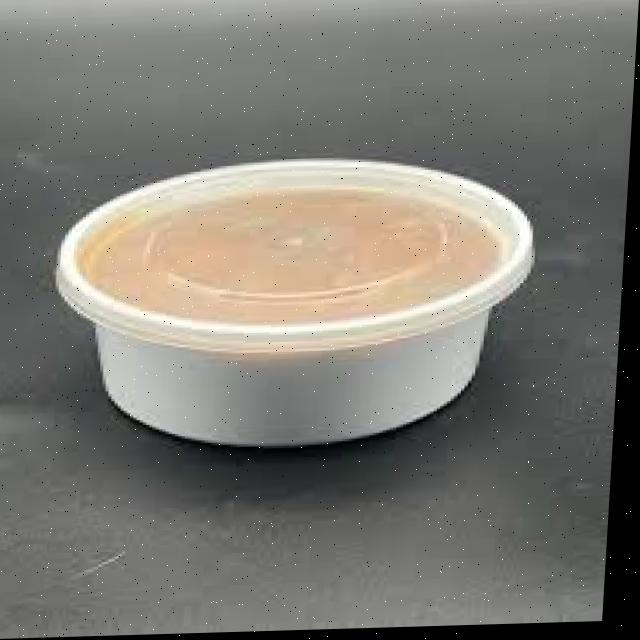disposable: (49, 126, 574, 468)
